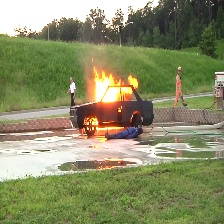fire: (90, 60, 139, 106)
